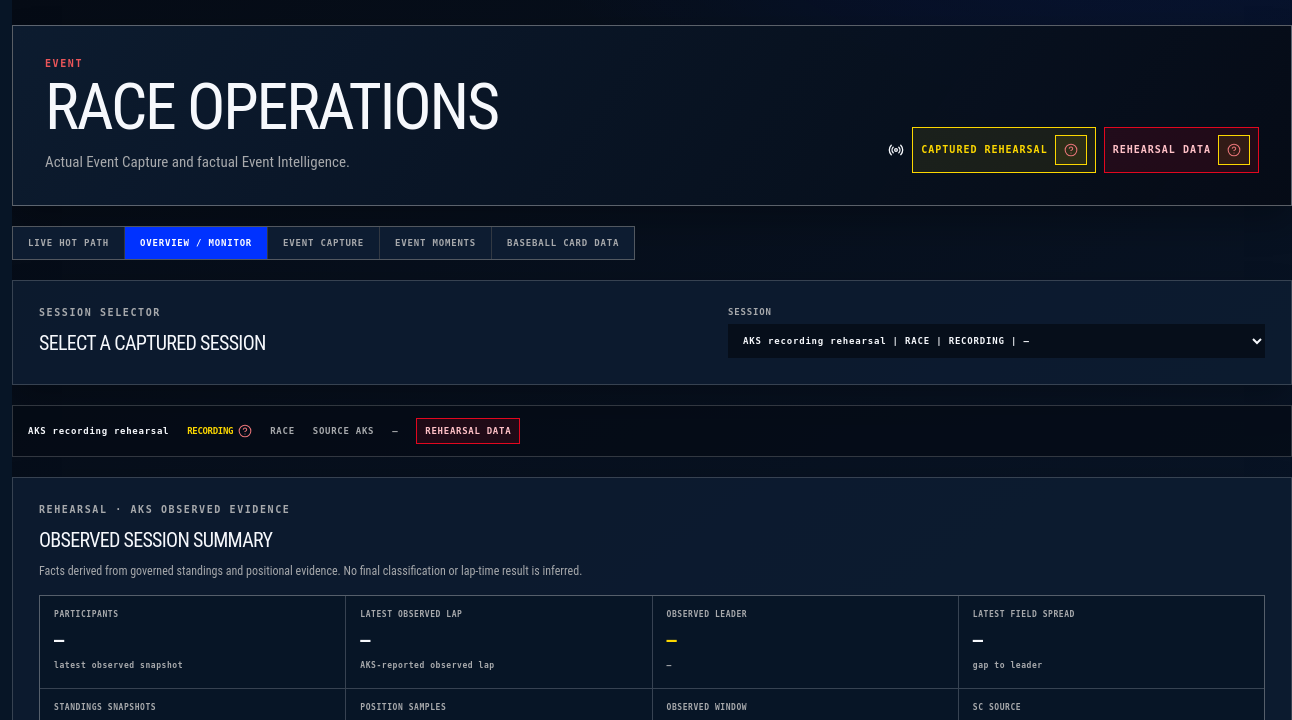
Test: EventOperations › opens an operational meaning tooltip with keyboard focus without changing the selected session
Expected: the heading "Race Operations" is shown, [45,79,498,138]
Expected: the heading "Observed session summary" is shown, [39,528,272,552]
Focus the button named "About Session Status" at (245, 431), box [238,424,252,438]
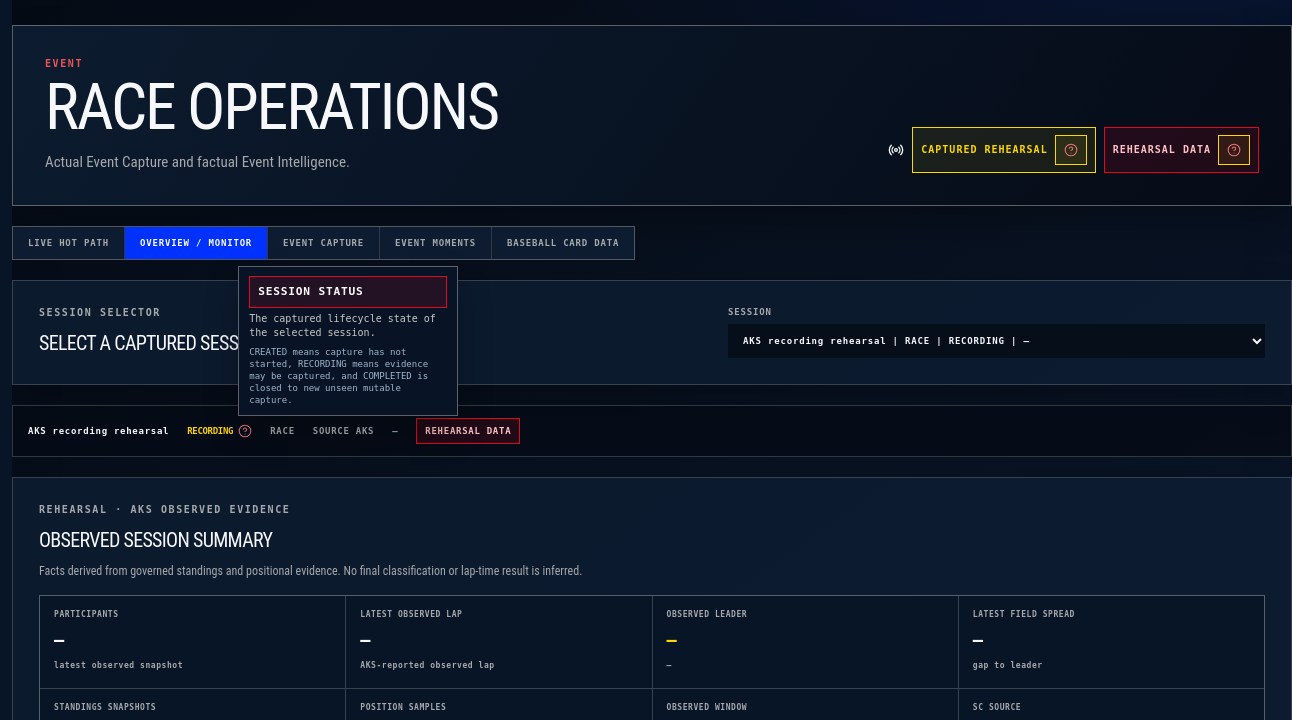
Expected: the dropdown named "Event session" shows "AKS recording rehearsal | RACE | RECORDING | —", [728,324,1265,358]
Expected: the tooltip shows "captured lifecycle state", [249,313,436,338]
Leave the button named "About Session Status", box [238,424,252,438]
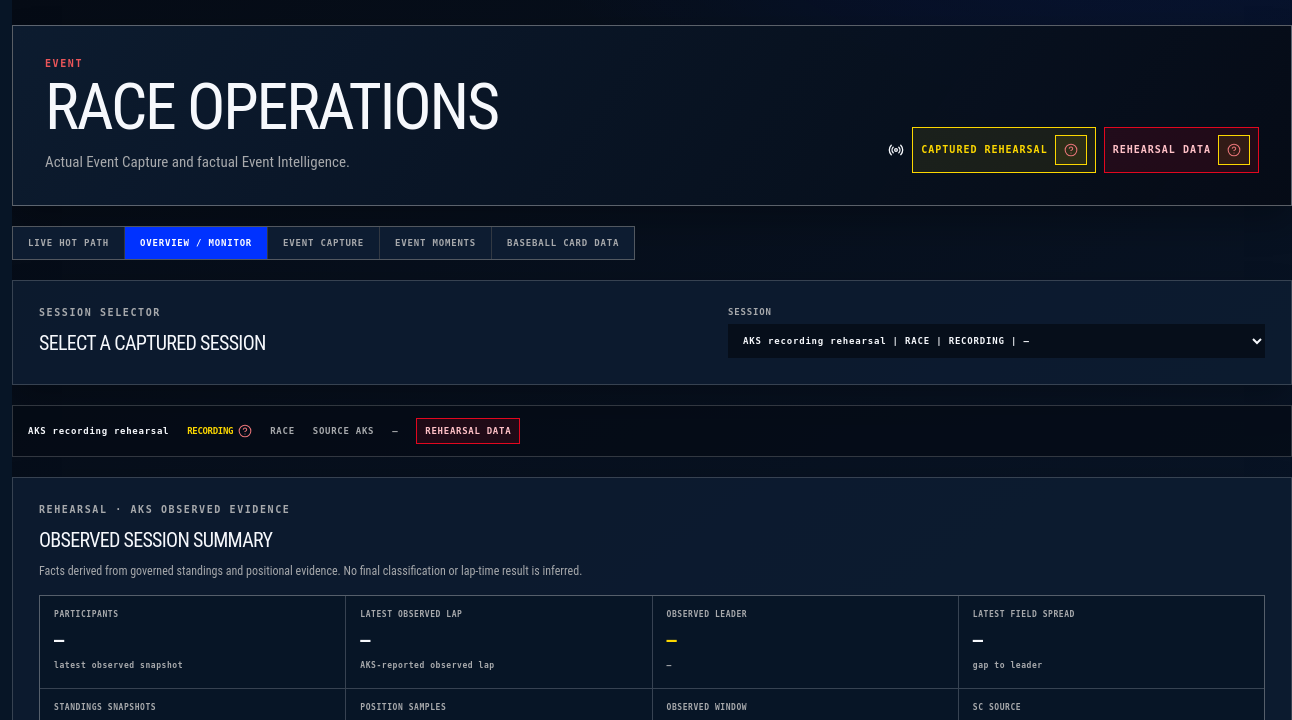
Expected: the tooltip is gone
